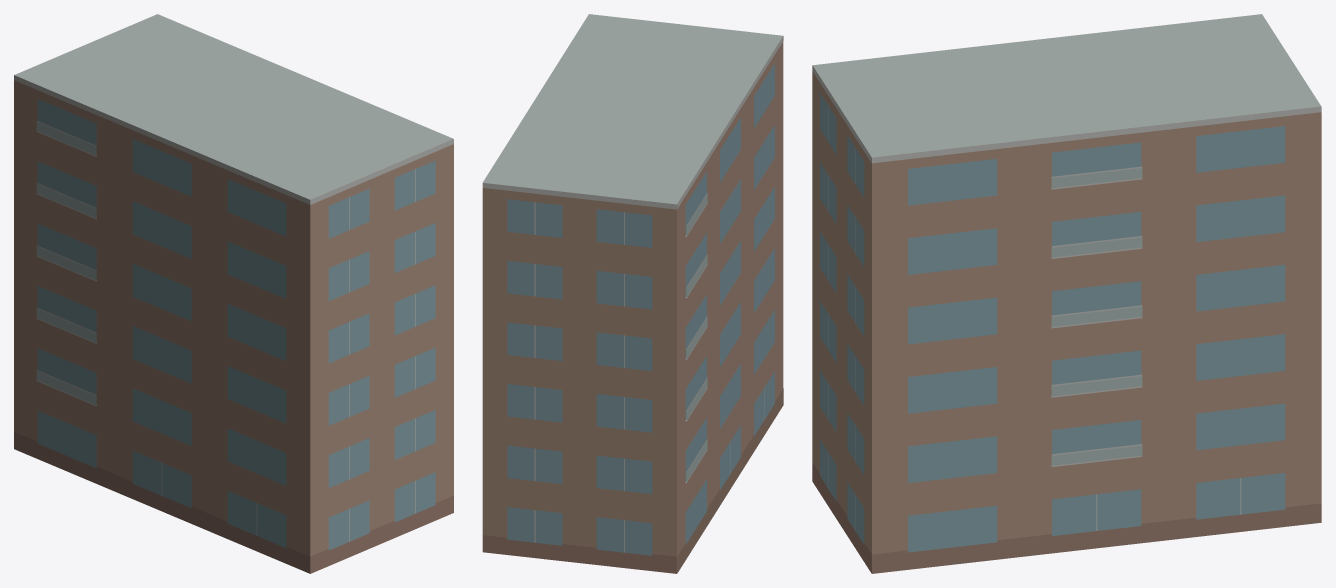
The model's file is survey-upis-32784277.glb.
The picture shows the model from 3 angles, left to right: view 1: azimuth 30°, elevation 25°; view 2: azimuth 150°, elevation 25°; view 3: azimuth 270°, elevation 25°; orthographic projection. The views are drawn at different scales.
Visible parts, largest first — view 1: survey-upis-32784277.tmp; view 2: survey-upis-32784277.tmp; view 3: survey-upis-32784277.tmp.
Boxes of the visible parts, box(x1,y1,x2,y2) form: survey-upis-32784277.tmp: box(14, 14, 453, 573); survey-upis-32784277.tmp: box(482, 14, 783, 573); survey-upis-32784277.tmp: box(812, 14, 1321, 573).
Size of the model in its own units: 13.19 by 17.8 by 19.74.
